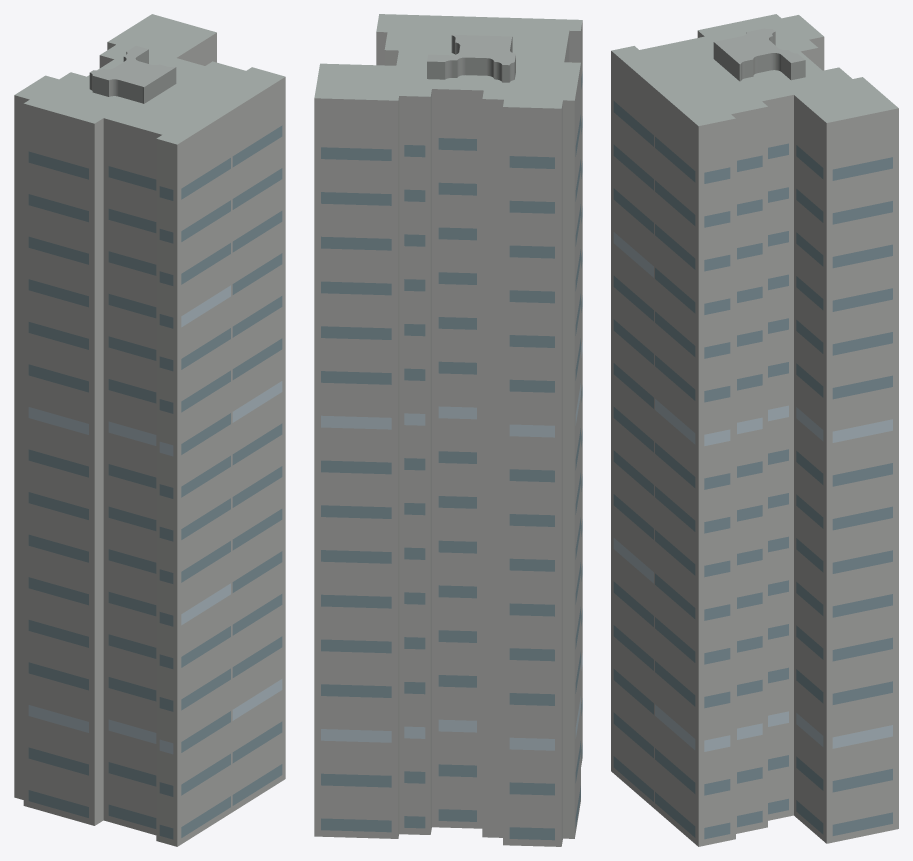
File: fallback-onebailey-112.glb
The picture shows the model from 3 angles, left to right: view 1: azimuth 30°, elevation 25°; view 2: azimuth 150°, elevation 25°; view 3: azimuth 270°, elevation 25°; orthographic projection. The views are drawn at different scales.
Parts seen in each view (by area): view 1: fallback-onebailey-112; view 2: fallback-onebailey-112; view 3: fallback-onebailey-112.
Boxes of the visible parts, box(x1,y1,x2,y2) form: fallback-onebailey-112: box(14, 14, 285, 846); fallback-onebailey-112: box(314, 14, 582, 846); fallback-onebailey-112: box(611, 14, 898, 846).
Bounding box in the file's own units: 33.59 × 103 × 36.39.
